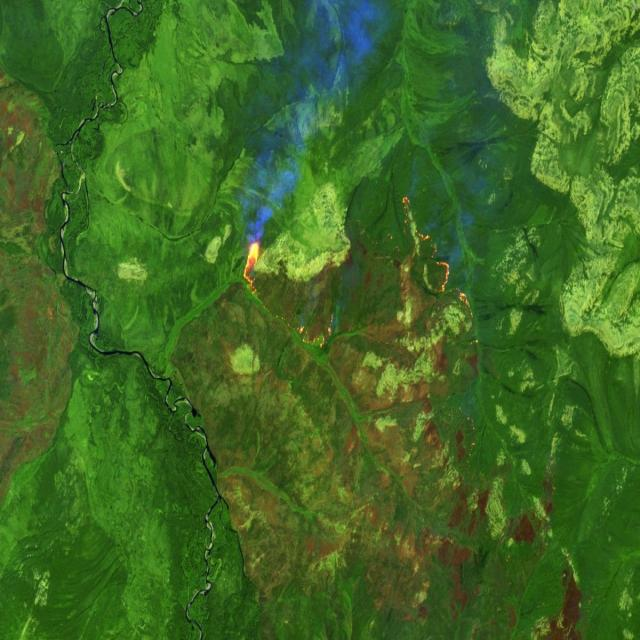fire: (239, 226, 342, 358), (394, 189, 480, 324)
